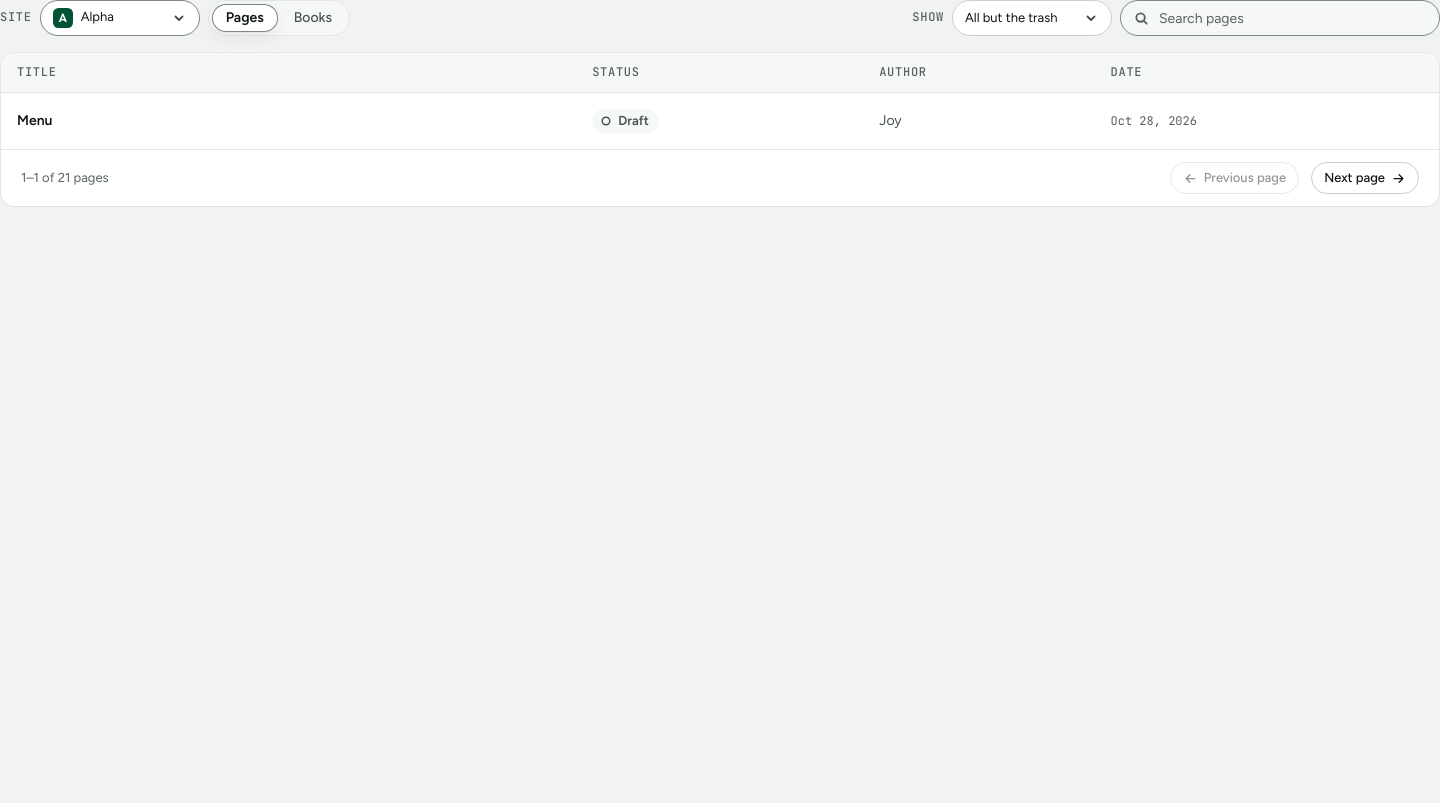
Scenario: leaving with unsaved changes asks first
Click the button "Menu" at (35, 121), box top-left (17, 111), bottom-right (52, 131)
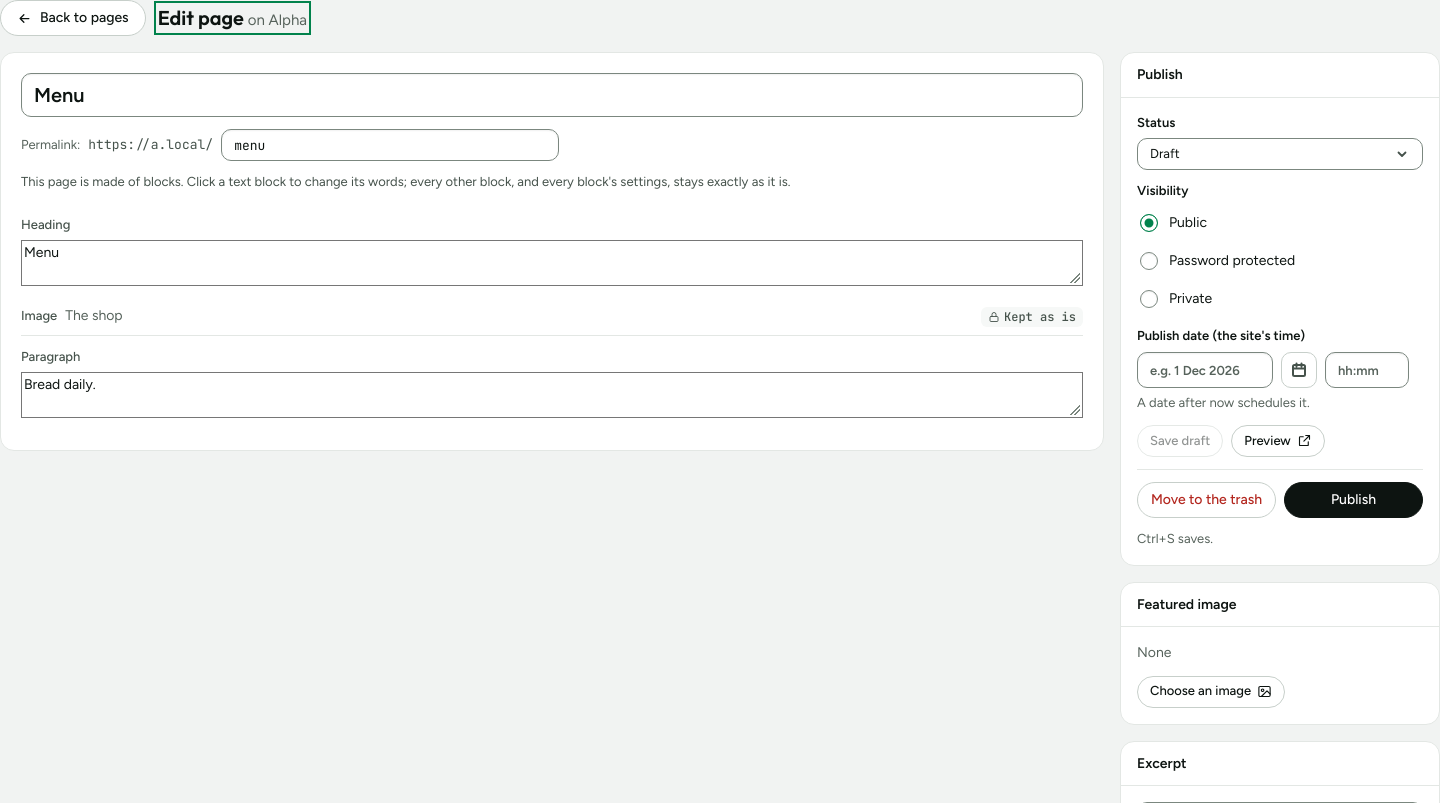
Replace the text in the field named "title" with "Our menu" at (552, 95), box top-left (21, 73), bottom-right (1083, 117)
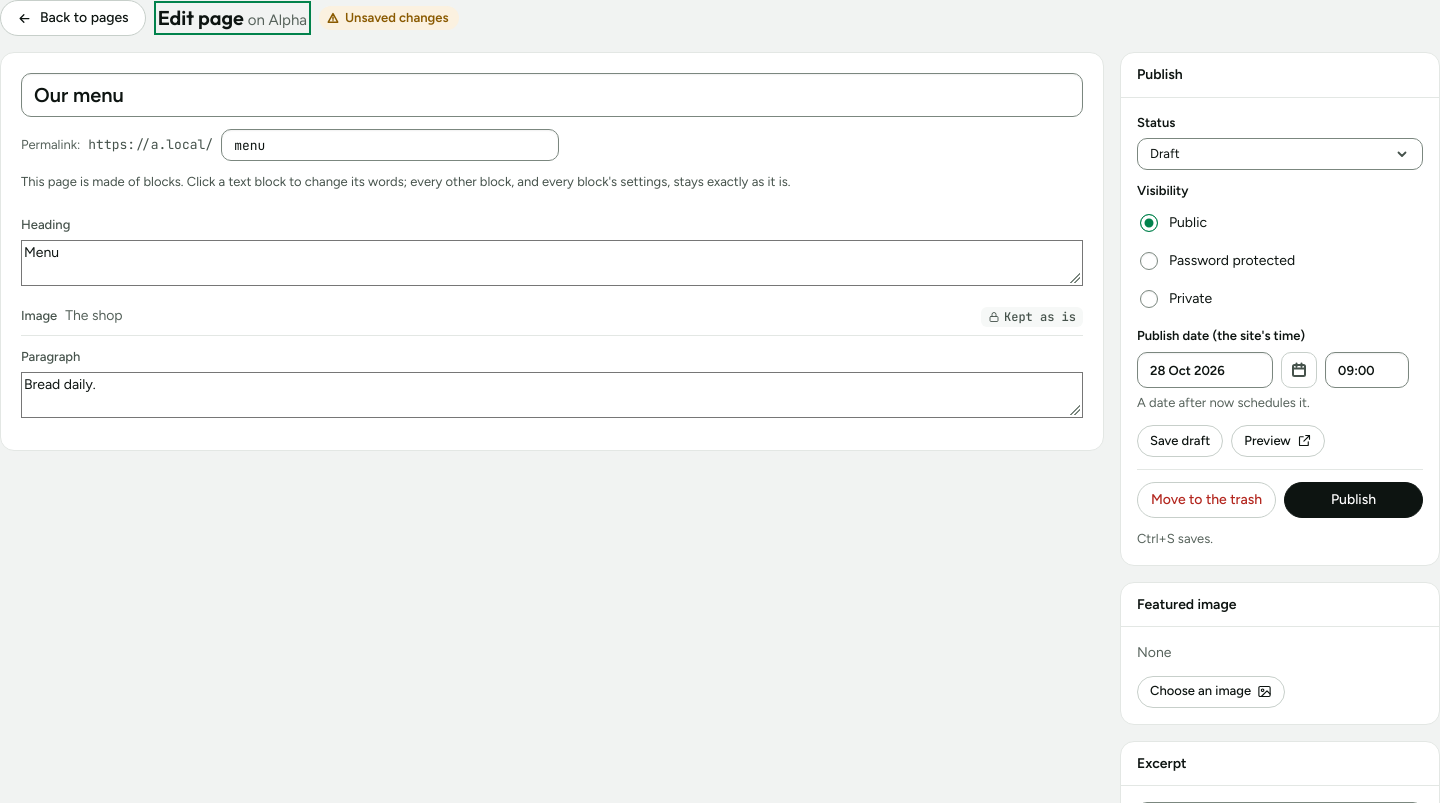
Click the button "Back to pages" at (73, 18), box top-left (0, 0), bottom-right (146, 36)
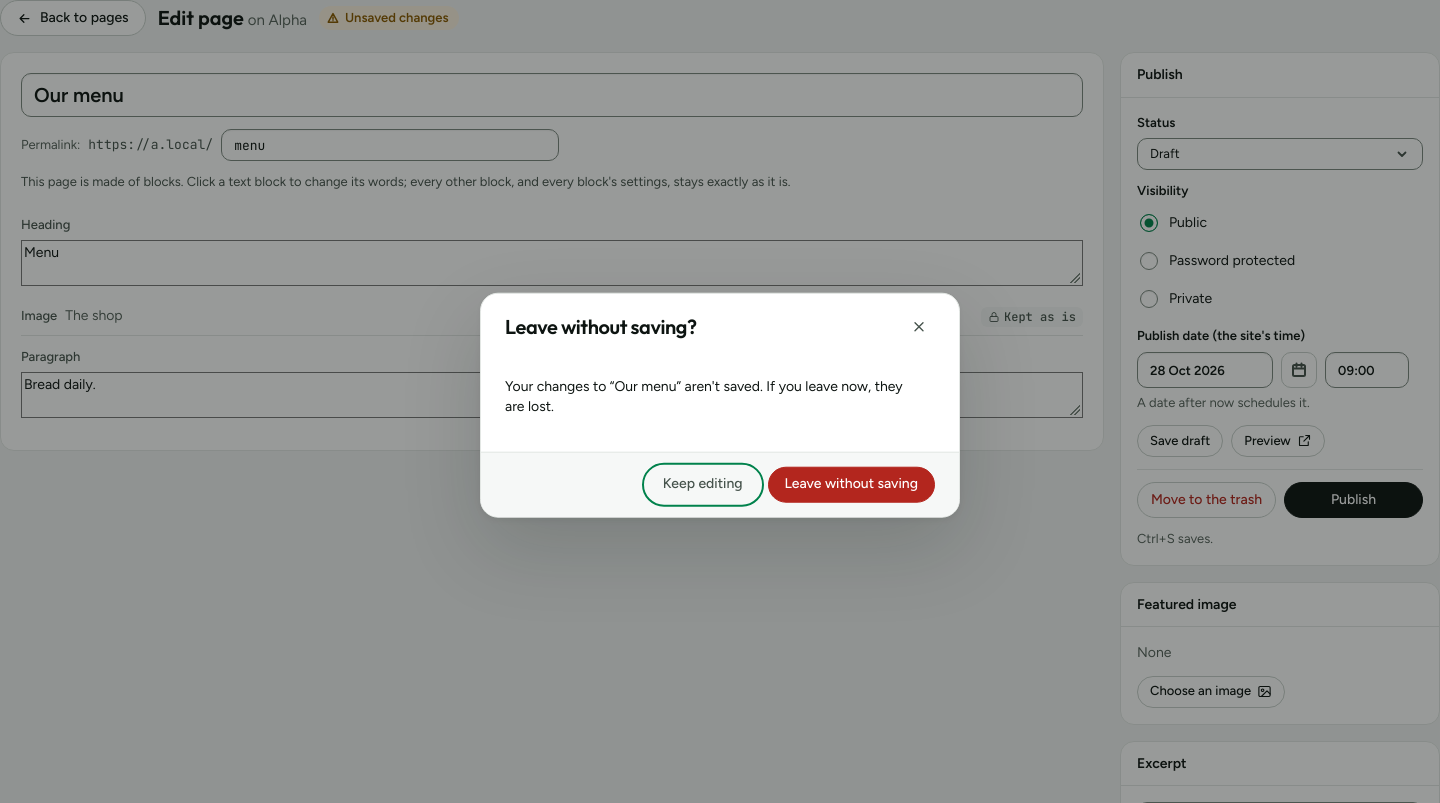
Click the button "Keep editing" at (703, 484), box top-left (646, 466), bottom-right (760, 502)
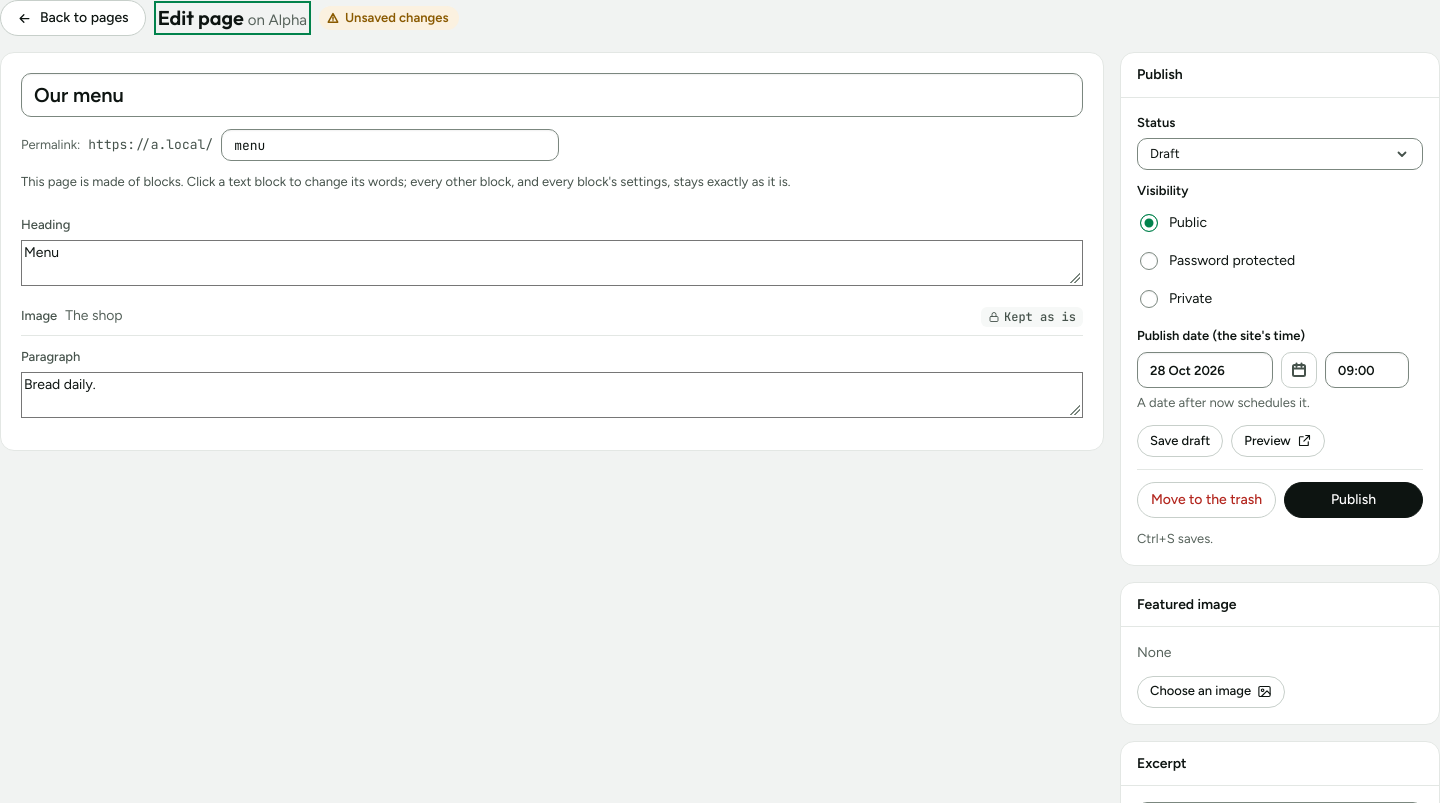
Click the button "Back to pages" at (73, 18), box top-left (0, 0), bottom-right (146, 36)
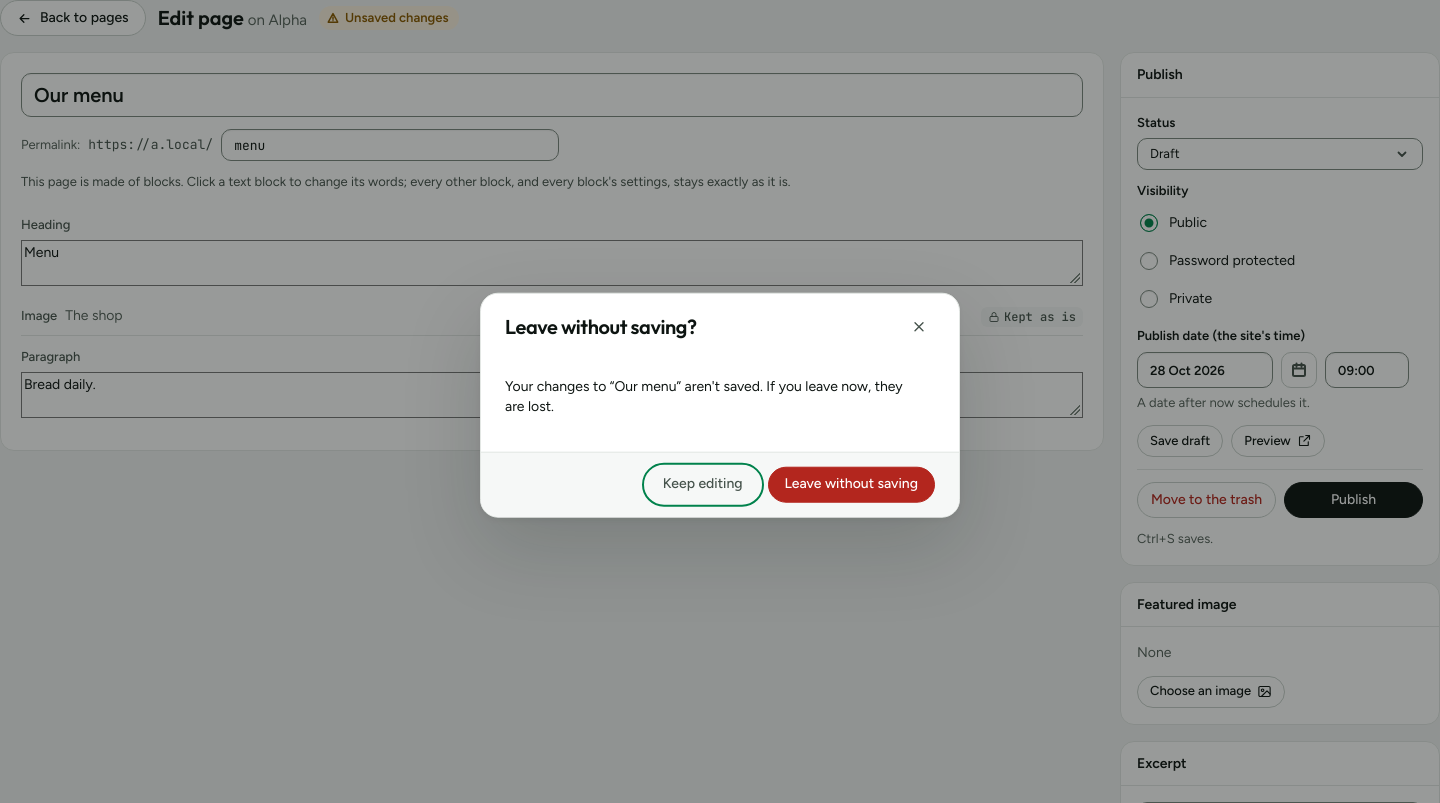
Click the button "Leave without saving" at (851, 484), box top-left (768, 466), bottom-right (935, 502)
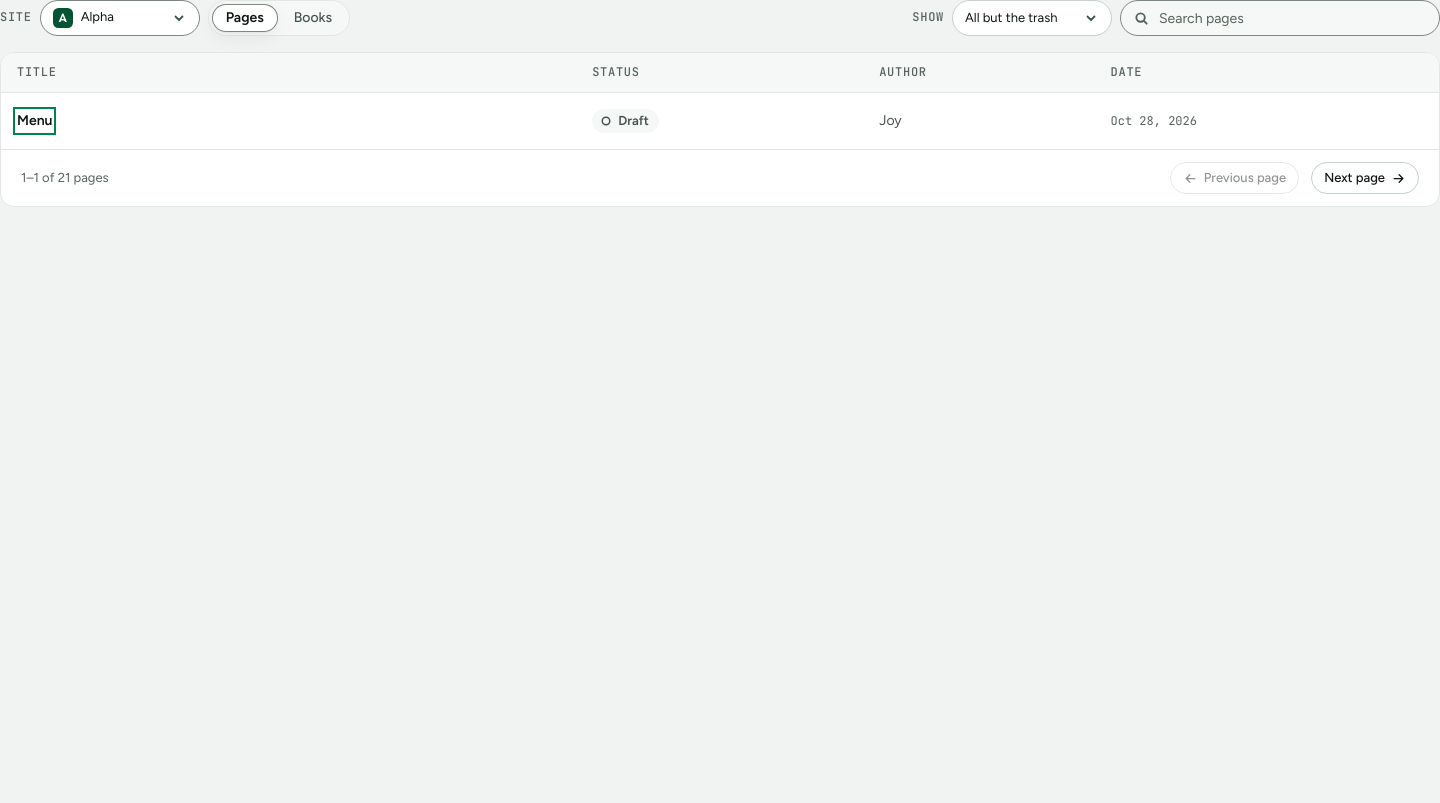
Expected: the table named "Pages" is shown, top-left (1, 53), bottom-right (1439, 149)
